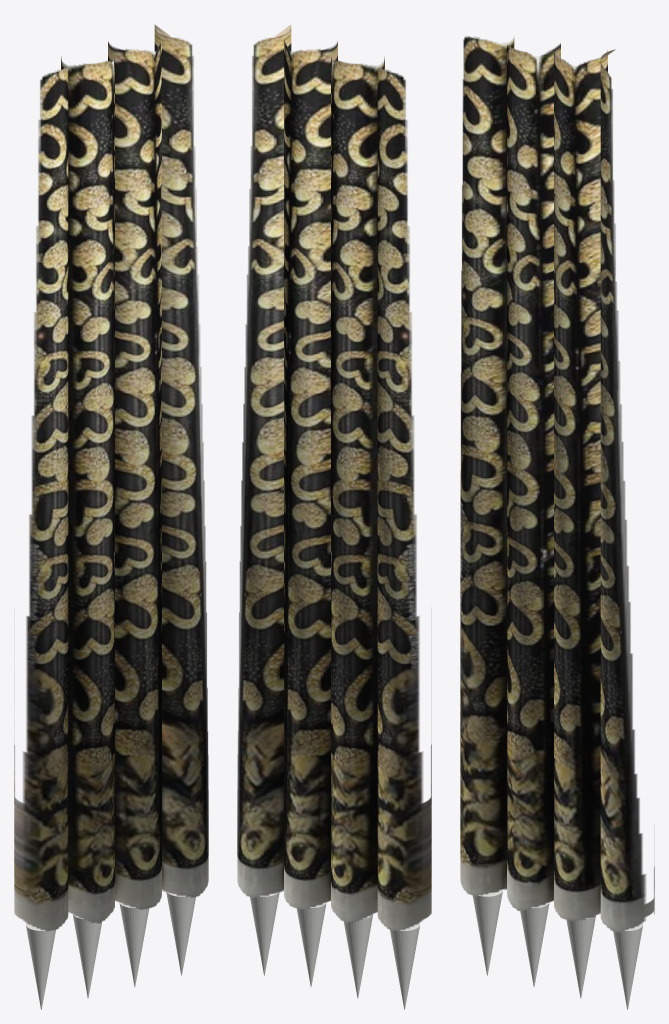
The model's file is artificii-tort-30cm-set-4-bucati-ardere-120-secunde.glb.
The picture shows the model from 3 angles, left to right: view 1: azimuth 30°, elevation 25°; view 2: azimuth 150°, elevation 25°; view 3: azimuth 330°, elevation 25°; orthographic projection.
Parts seen in each view (by area): view 1: cake-fountain-3, cake-fountain-2, cake-fountain-4, cake-fountain-1, white-fixing-spike-1, white-fixing-spike-4, white-fixing-spike-3, white-fixing-spike-2; view 2: cake-fountain-3, cake-fountain-2, cake-fountain-4, cake-fountain-1, white-fixing-spike-1, white-fixing-spike-4, white-fixing-spike-3, white-fixing-spike-2; view 3: cake-fountain-3, cake-fountain-2, cake-fountain-1, cake-fountain-4, white-fixing-spike-1, white-fixing-spike-4, white-fixing-spike-2, white-fixing-spike-3.
Boxes of the visible parts, left/top/right/bottom form: cake-fountain-3: left=108, top=38, right=161, bottom=909; cake-fountain-2: left=61, top=56, right=114, bottom=923; cake-fountain-4: left=154, top=25, right=208, bottom=897; cake-fountain-1: left=14, top=68, right=68, bottom=931; white-fixing-spike-1: left=25, top=922, right=55, bottom=1009; white-fixing-spike-4: left=166, top=892, right=195, bottom=975; white-fixing-spike-3: left=119, top=902, right=149, bottom=986; white-fixing-spike-2: left=72, top=913, right=102, bottom=998; cake-fountain-3: left=284, top=38, right=337, bottom=909; cake-fountain-2: left=331, top=56, right=384, bottom=923; cake-fountain-4: left=237, top=25, right=291, bottom=897; cake-fountain-1: left=377, top=68, right=431, bottom=931; white-fixing-spike-1: left=390, top=922, right=420, bottom=1009; white-fixing-spike-4: left=250, top=892, right=279, bottom=975; white-fixing-spike-3: left=296, top=902, right=326, bottom=986; white-fixing-spike-2: left=343, top=913, right=373, bottom=998; cake-fountain-3: left=554, top=50, right=607, bottom=921; cake-fountain-2: left=507, top=43, right=560, bottom=911; cake-fountain-1: left=460, top=35, right=514, bottom=896; cake-fountain-4: left=600, top=49, right=654, bottom=932; white-fixing-spike-1: left=472, top=889, right=502, bottom=975; white-fixing-spike-4: left=613, top=922, right=643, bottom=1009; white-fixing-spike-2: left=520, top=902, right=549, bottom=986; white-fixing-spike-3: left=566, top=915, right=595, bottom=998.
Bounding box in the file's own units: 0.2059 × 1 × 0.0515.
Materials: 2 (1 with a texture image).
